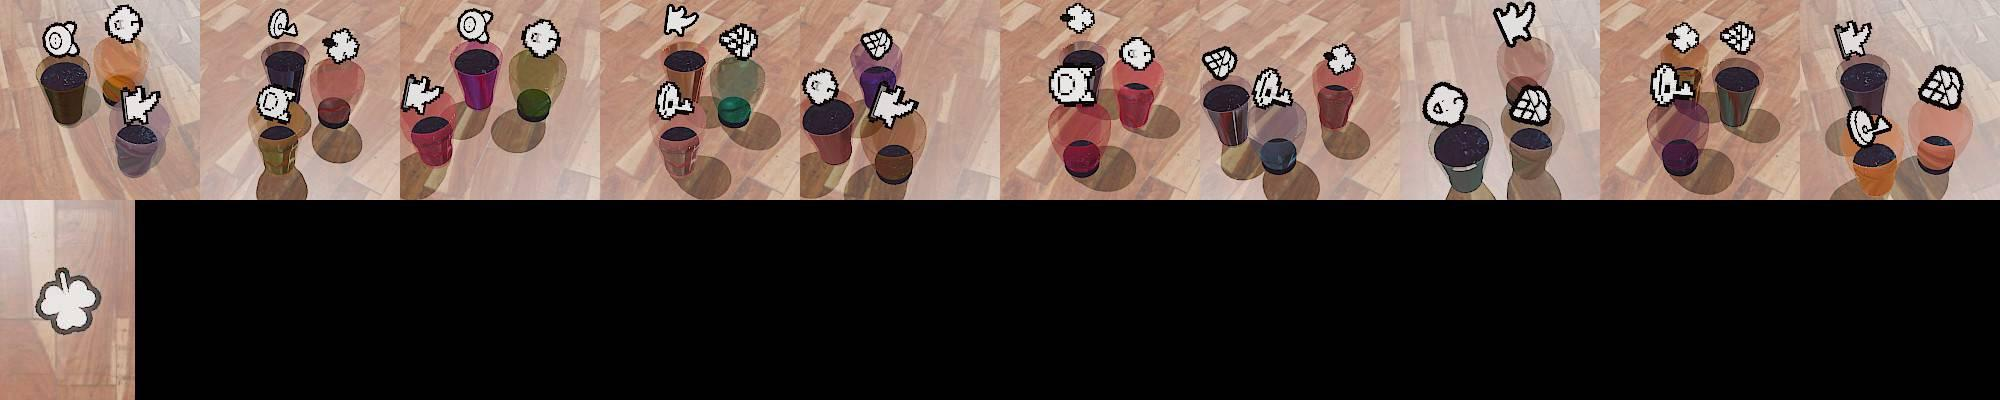icon: (33, 265, 102, 334), (870, 81, 921, 129), (1649, 62, 1699, 107), (1917, 64, 1964, 110), (1047, 63, 1097, 106), (1423, 81, 1468, 126), (1493, 1, 1537, 47), (1846, 107, 1892, 149), (1251, 67, 1294, 110), (400, 73, 445, 114), (1511, 83, 1554, 125), (654, 78, 697, 119), (120, 84, 161, 126), (521, 18, 562, 59), (255, 84, 298, 123), (104, 3, 143, 45), (801, 67, 841, 107), (718, 22, 760, 60), (1835, 20, 1872, 60), (321, 27, 360, 64), (42, 20, 79, 59), (456, 7, 493, 43), (663, 3, 700, 38), (1118, 35, 1155, 70), (1719, 20, 1756, 55), (1202, 45, 1237, 79), (859, 27, 894, 60), (1060, 2, 1096, 34), (1667, 21, 1701, 54), (266, 8, 298, 41), (1322, 43, 1355, 75)
